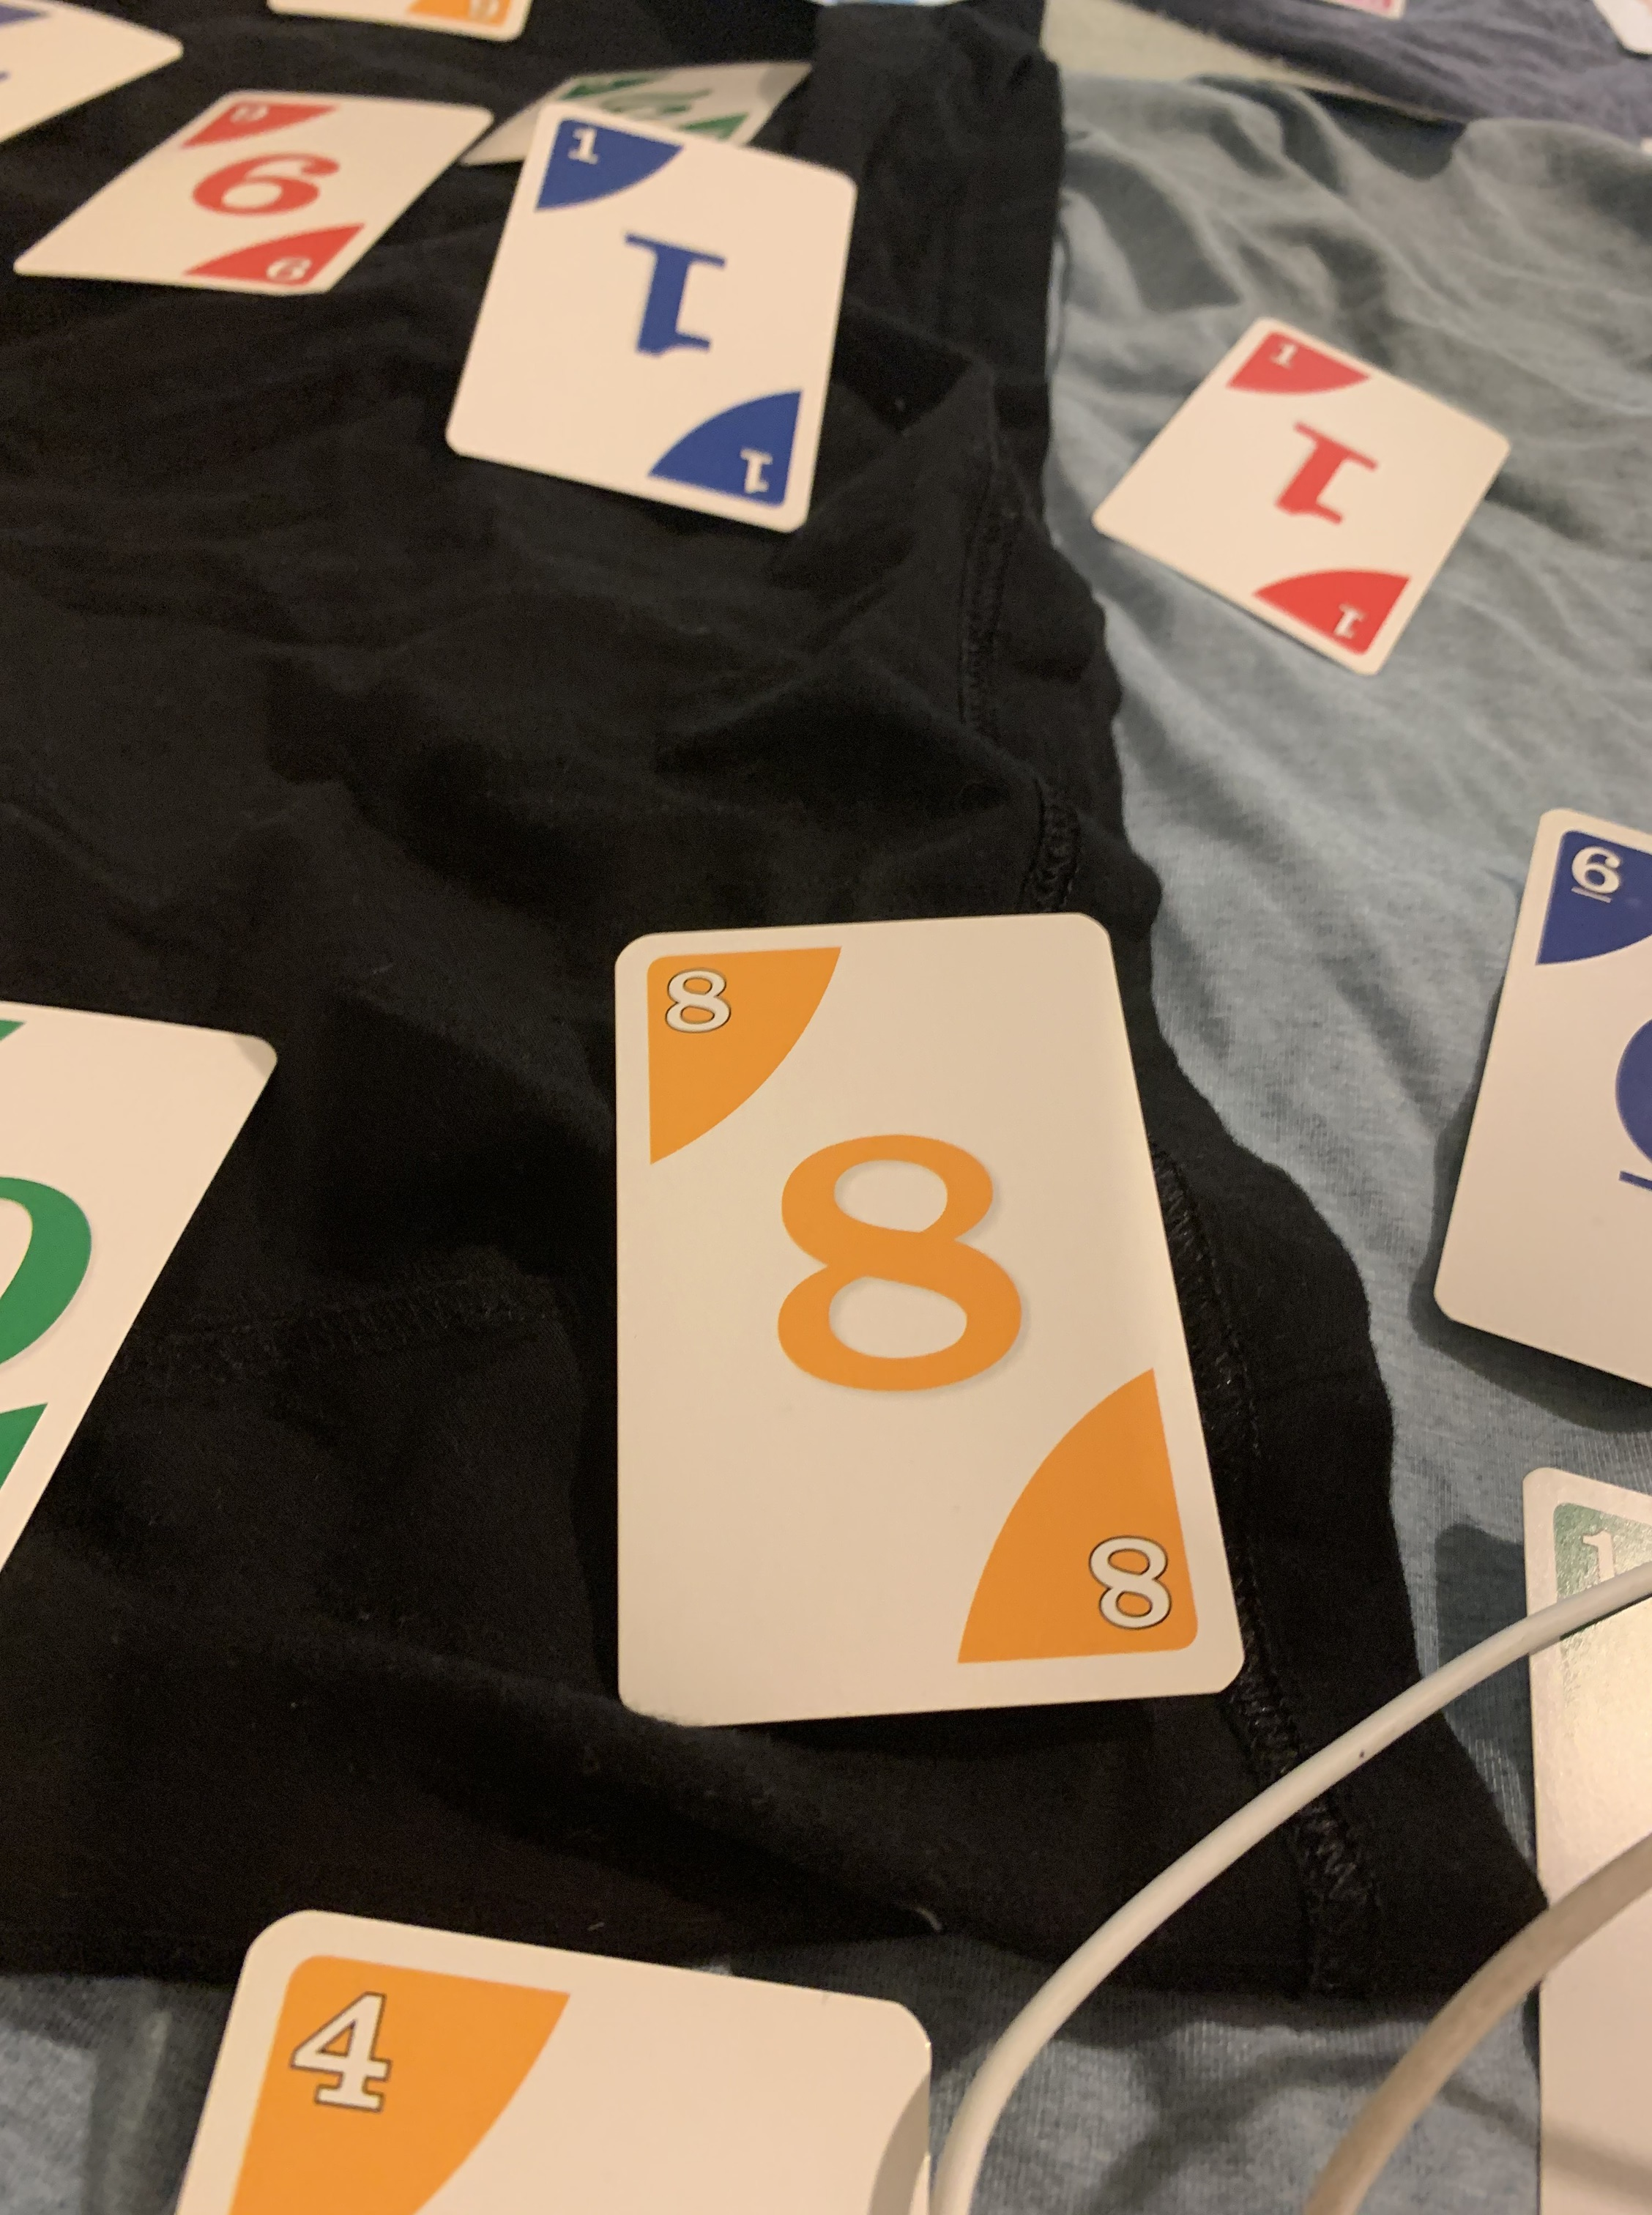eight: (571, 901, 1260, 1748)
one: (416, 90, 880, 549), (1078, 299, 1524, 687)
